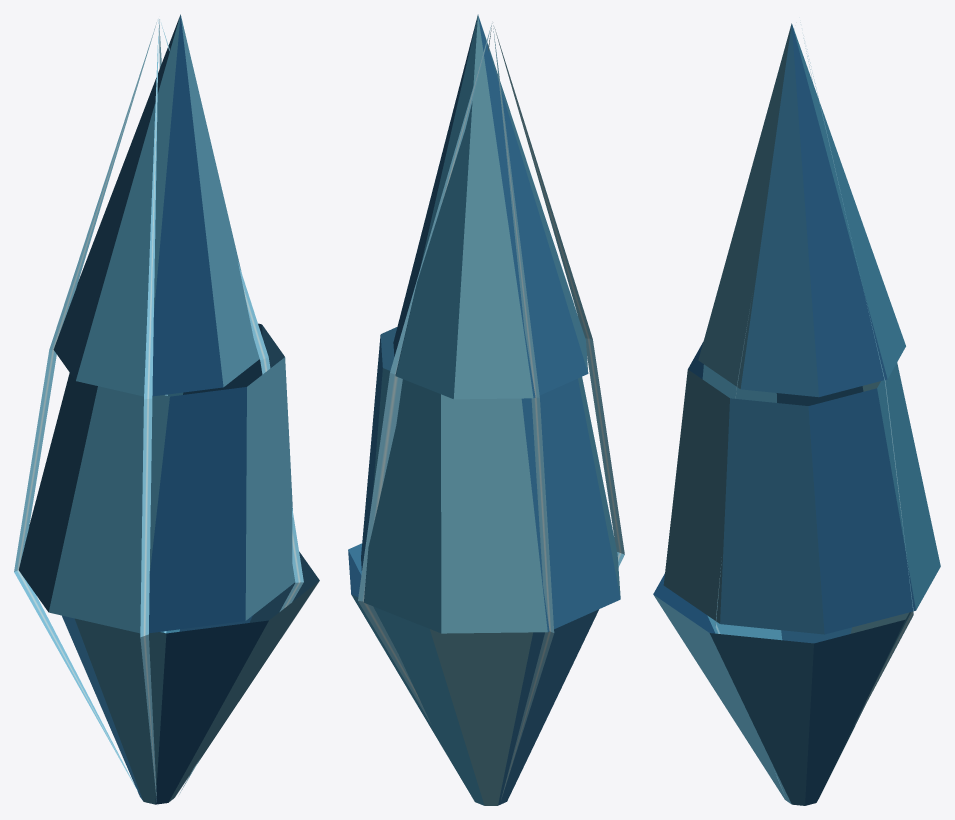
The model's file is Kaeya_FrostGrain.fbx.
3 views of the same model, side by side, from view 1: azimuth 30°, elevation 25°; view 2: azimuth 150°, elevation 25°; view 3: azimuth 270°, elevation 25° (orthographic).
Visible parts, largest first — view 1: ASSET_KaeyaFrostGrain_CrystalBody, ASSET_KaeyaFrostGrain; view 2: ASSET_KaeyaFrostGrain_CrystalBody, ASSET_KaeyaFrostGrain; view 3: ASSET_KaeyaFrostGrain_CrystalBody, ASSET_KaeyaFrostGrain.
Part boxes in pixels (x1,y1,x2,y2): ASSET_KaeyaFrostGrain_CrystalBody: (19,14,319,804); ASSET_KaeyaFrostGrain: (14,19,303,802); ASSET_KaeyaFrostGrain_CrystalBody: (348,14,620,805); ASSET_KaeyaFrostGrain: (358,23,624,799); ASSET_KaeyaFrostGrain_CrystalBody: (653,23,940,805); ASSET_KaeyaFrostGrain: (715,22,913,795).
Bounding box in the file's own units: 25.49 × 74 × 24.59.
